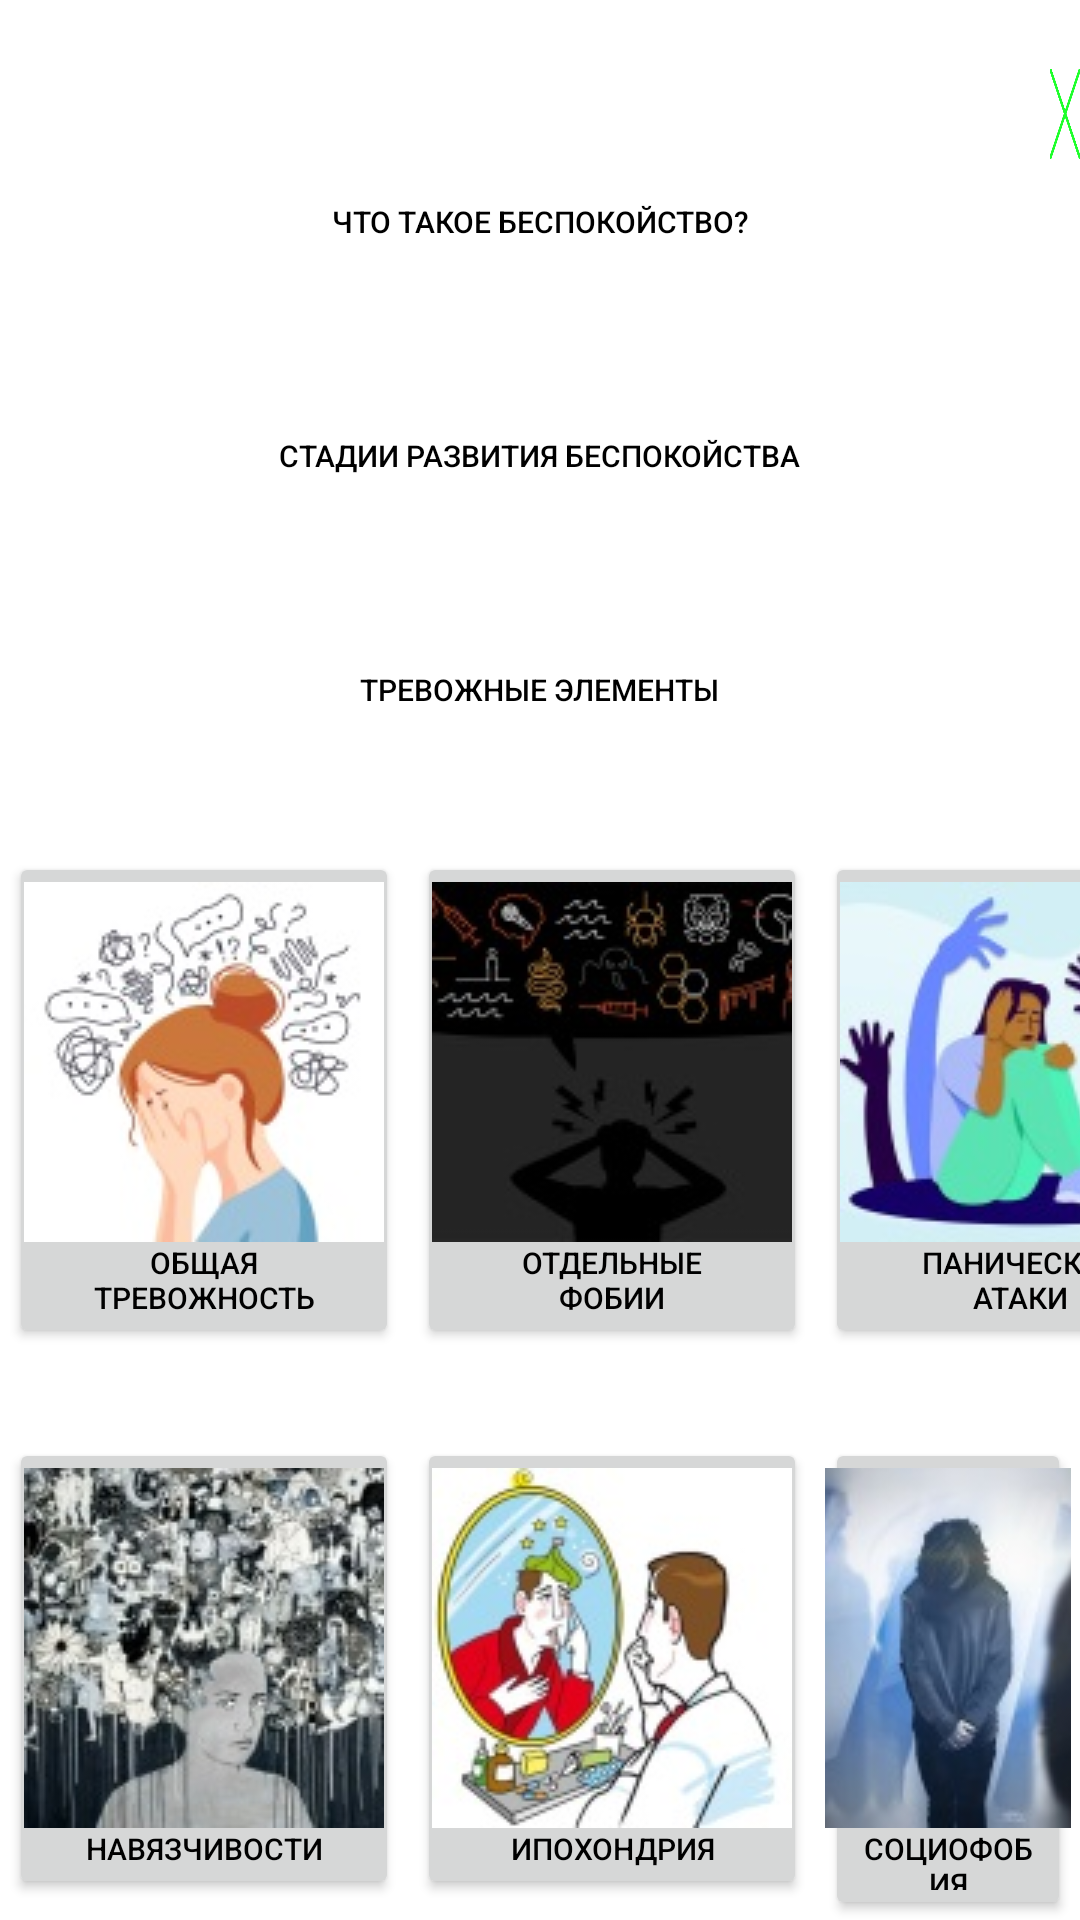

Screen size 1080*1920. Icon name, then its box in pixels as (x1, y1, x2, y2):
close: (1050, 69, 1080, 159)
